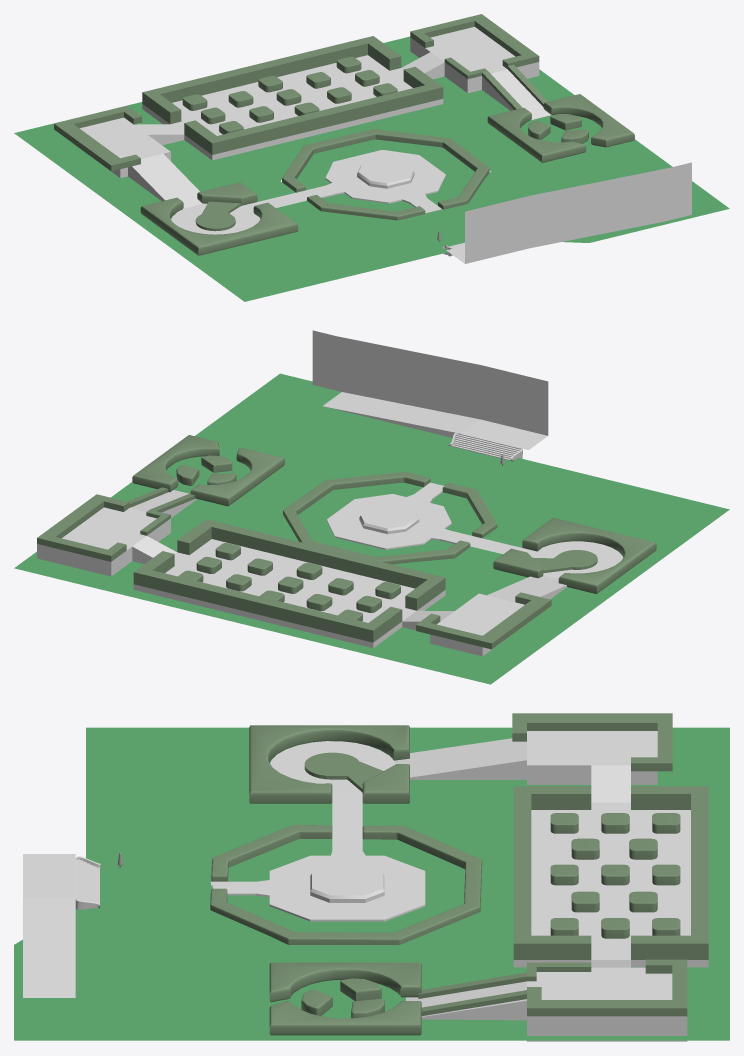
Rendered from circuit_finie.fbx.
The picture shows the model from 3 angles, top to bottom: view 1: azimuth 30°, elevation 25°; view 2: azimuth 150°, elevation 25°; view 3: azimuth 270°, elevation 25°; orthographic projection. The views are drawn at different scales.
Parts seen in each view (by area): view 1: polySurface11; view 2: polySurface11; view 3: polySurface11.
Part boxes in pixels (x1,y1,x2,y2): polySurface11: (14, 14, 729, 301); polySurface11: (14, 330, 729, 684); polySurface11: (14, 713, 729, 1041).
Size of the model in its own units: 1258 by 178 by 1217.
